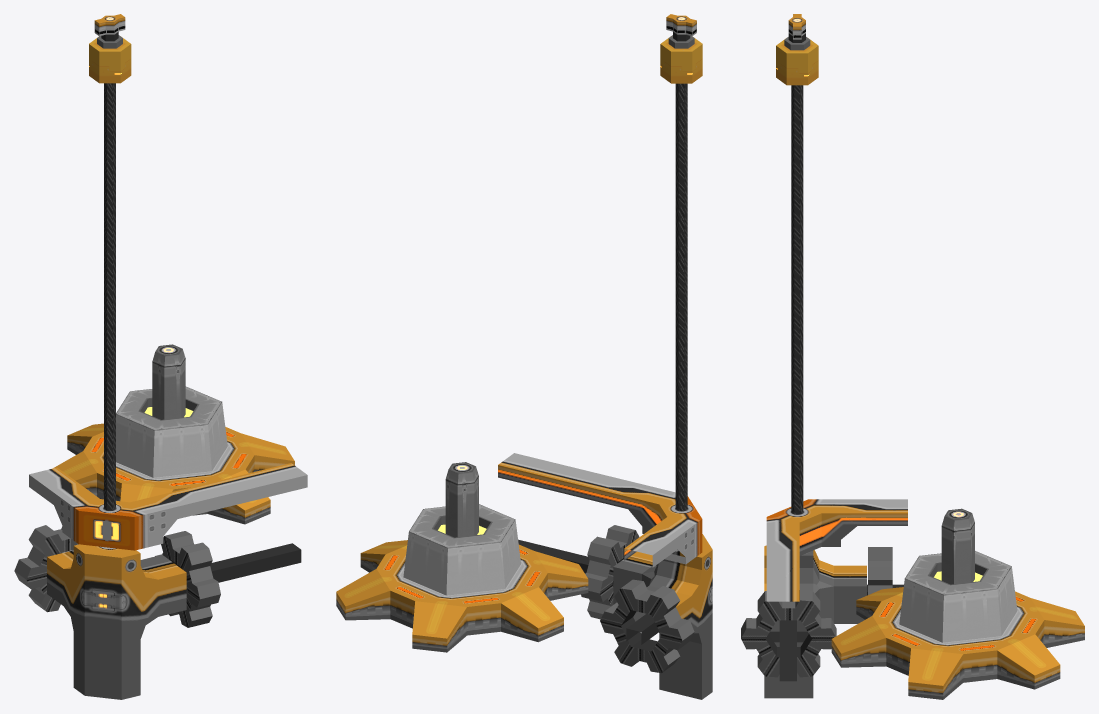
The model's file is building_station_new.glb.
3 renders of one model, left to right at view 1: azimuth 30°, elevation 25°; view 2: azimuth 150°, elevation 25°; view 3: azimuth 270°, elevation 25°, orthographic.
Parts seen in each view (by area): view 1: Cube.003, Cylinder, Cube.005, Cube.002, Cube.001; view 2: Cylinder, Cube.003, Cube.005, Cube.002, Cube.001; view 3: Cylinder, Cube.003, Cube.005, Cube.002, Cube.001.
Part boxes in pixels (x1,y1,x2,y2): Cube.003: [14, 14, 220, 699]; Cylinder: [53, 344, 294, 524]; Cube.005: [29, 467, 220, 550]; Cube.002: [205, 463, 307, 508]; Cube.001: [210, 543, 301, 582]; Cylinder: [336, 462, 588, 652]; Cube.003: [581, 14, 712, 699]; Cube.005: [584, 474, 702, 567]; Cube.002: [498, 453, 600, 498]; Cube.001: [518, 539, 589, 573]; Cylinder: [831, 508, 1084, 699]; Cube.003: [741, 14, 903, 698]; Cube.005: [766, 499, 907, 558]; Cube.002: [766, 559, 799, 601]; Cube.001: [779, 638, 796, 681].
Size of the model in its own units: 25.54 by 55 by 25.54.
1 material, 1 textured.
